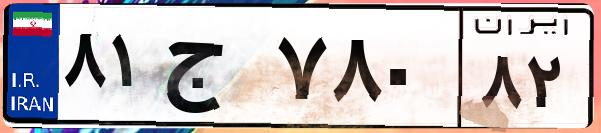0: (385, 28, 445, 110)
1: (110, 28, 158, 98)
2: (525, 38, 570, 115)
7: (270, 28, 330, 110)
8: (330, 28, 385, 110), (57, 26, 110, 100), (475, 38, 525, 113)
ج: (158, 20, 270, 120)
